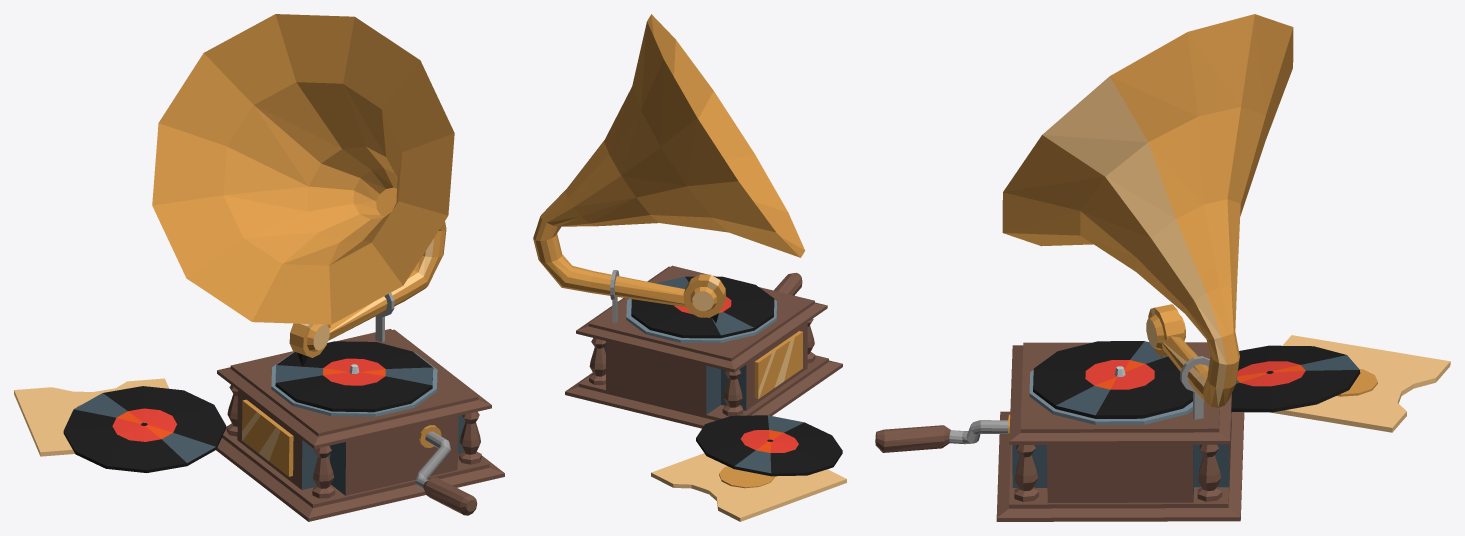
File: gramophone_anim.glb
3 views of the same model, side by side, from view 1: azimuth 30°, elevation 25°; view 2: azimuth 150°, elevation 25°; view 3: azimuth 270°, elevation 25° (orthographic). The views are drawn at different scales.
Visible parts, largest first — view 1: Horn, Body, Record, Crank; view 2: Body, Horn, Record, Crank; view 3: Horn, Body, Record, Crank.
Part boxes in pixels (x1=…): Horn: x1=152, y1=14, x2=454, y2=324; Body: x1=14, y1=231, x2=504, y2=521; Record: x1=271, y1=341, x2=437, y2=416; Crank: x1=415, y1=425, x2=477, y2=515; Body: x1=534, y1=238, x2=846, y2=521; Horn: x1=533, y1=14, x2=805, y2=261; Record: x1=626, y1=276, x2=776, y2=342; Crank: x1=774, y1=272, x2=802, y2=295; Horn: x1=1002, y1=14, x2=1293, y2=387; Body: x1=996, y1=304, x2=1450, y2=521; Record: x1=1029, y1=341, x2=1204, y2=424; Crank: x1=875, y1=414, x2=1010, y2=452.
Size of the model in its own units: 0.9027 by 0.9511 by 1.09.
